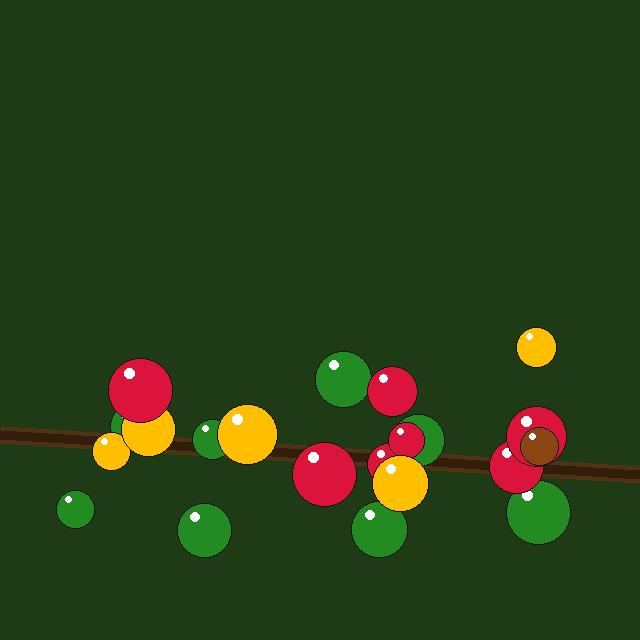Overripe: (520, 427, 558, 465)
Ripe: (108, 358, 172, 422), (292, 442, 356, 506), (506, 406, 566, 466), (489, 439, 543, 493), (367, 366, 417, 416), (367, 443, 409, 485), (388, 422, 424, 458)
Ripening: (217, 404, 277, 464), (372, 455, 428, 511), (121, 402, 175, 456), (516, 327, 556, 367), (92, 432, 130, 470)
Unripe: (506, 480, 570, 544), (351, 501, 407, 557), (315, 351, 371, 407), (177, 503, 231, 557), (392, 414, 444, 466), (110, 404, 154, 448), (192, 419, 232, 459), (56, 490, 94, 528)
